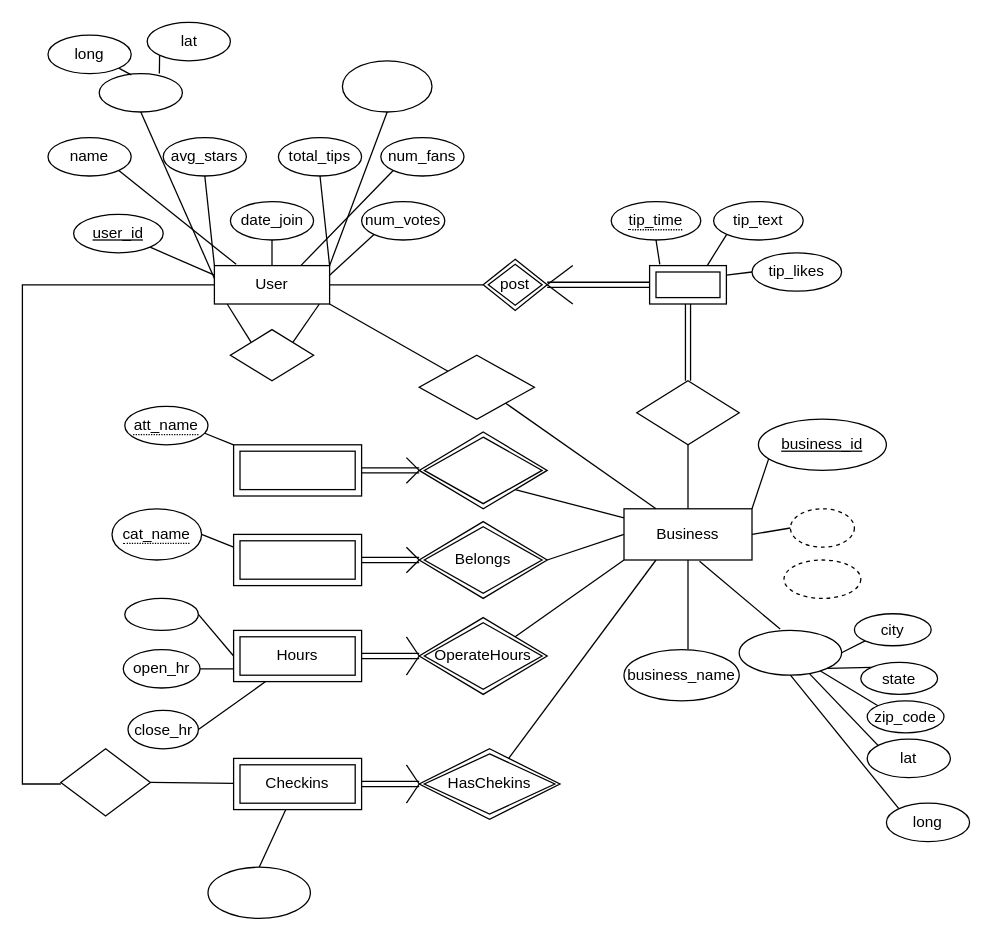
The diagram is 992 pixels wide and 941 high, and some of its shapes have lost their labels. The shapes that lost their labels are listed below. From the top down, each one's centre as x and y in pixels, then its label:
At (x=140, y=92): "location".
At (x=386, y=86): "total_tiplikes".
At (x=687, y=284): "Tip".
At (x=271, y=354): "Friend".
At (x=476, y=386): "likes".
At (x=687, y=412): "BelongsTo".
At (x=297, y=470): "Attributes".
At (x=482, y=470): "HasAttribute".
At (x=821, y=527): "tip_cnt".
At (x=297, y=559): "Category".
At (x=822, y=578): "stars".
At (x=161, y=613): "day".
At (x=790, y=652): "Address".
At (x=105, y=782): "checkin".
At (x=258, y=892): "timstamp".
